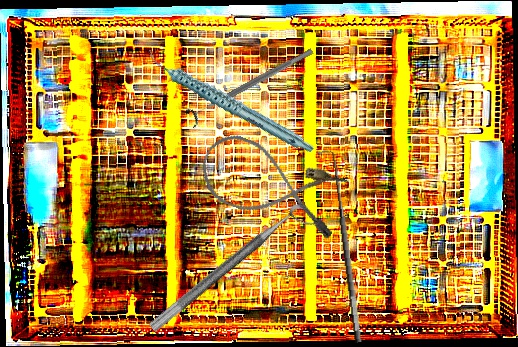Cannula: (191, 127, 353, 243)
Fixation Ring: (147, 199, 319, 346), (183, 41, 318, 129)
Handpiece: (144, 19, 315, 184)
Hook Surgical: (316, 147, 364, 345)
